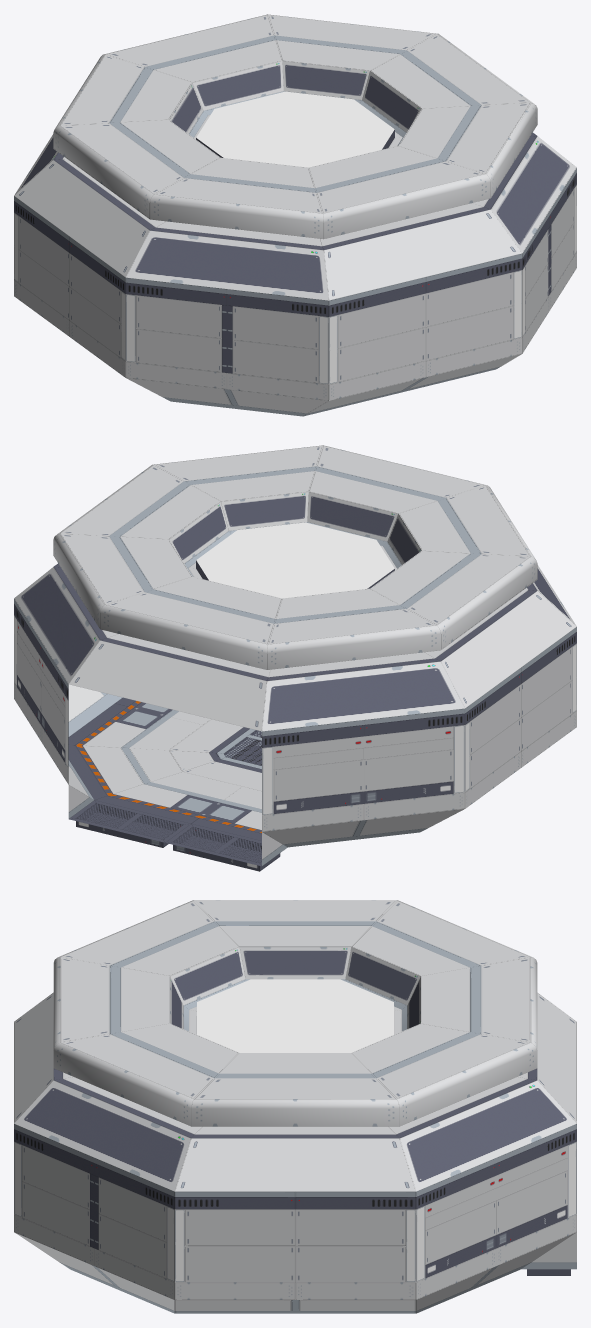
The model's file is Interior_Module_04.FBX.
3 renders of one model, top to bottom at view 1: azimuth 30°, elevation 25°; view 2: azimuth 150°, elevation 25°; view 3: azimuth 270°, elevation 25°, orthographic. The views are drawn at different scales.
Visible parts, largest first — view 1: Interior_Module_04; view 2: Interior_Module_04; view 3: Interior_Module_04.
Part boxes in pixels (x1,y1,x2,y2): Interior_Module_04: [14, 14, 576, 416]; Interior_Module_04: [14, 445, 576, 871]; Interior_Module_04: [14, 900, 576, 1313].
Size of the model in its own units: 14 by 6.25 by 14.
